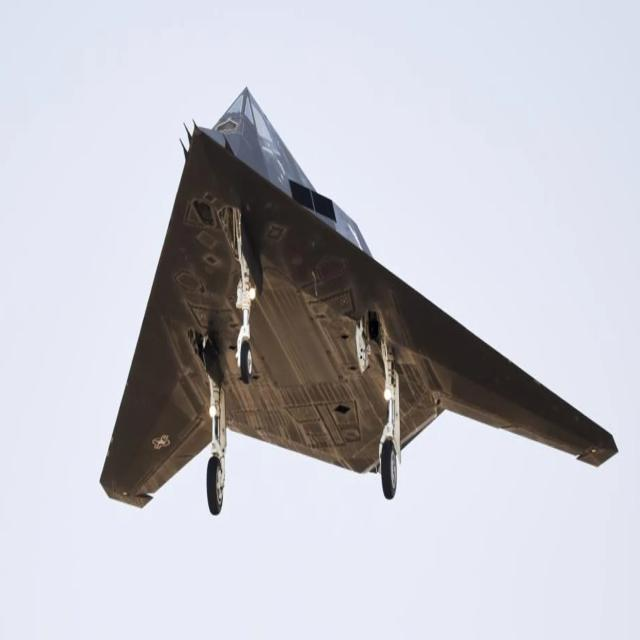F117: (17, 54, 640, 576)
